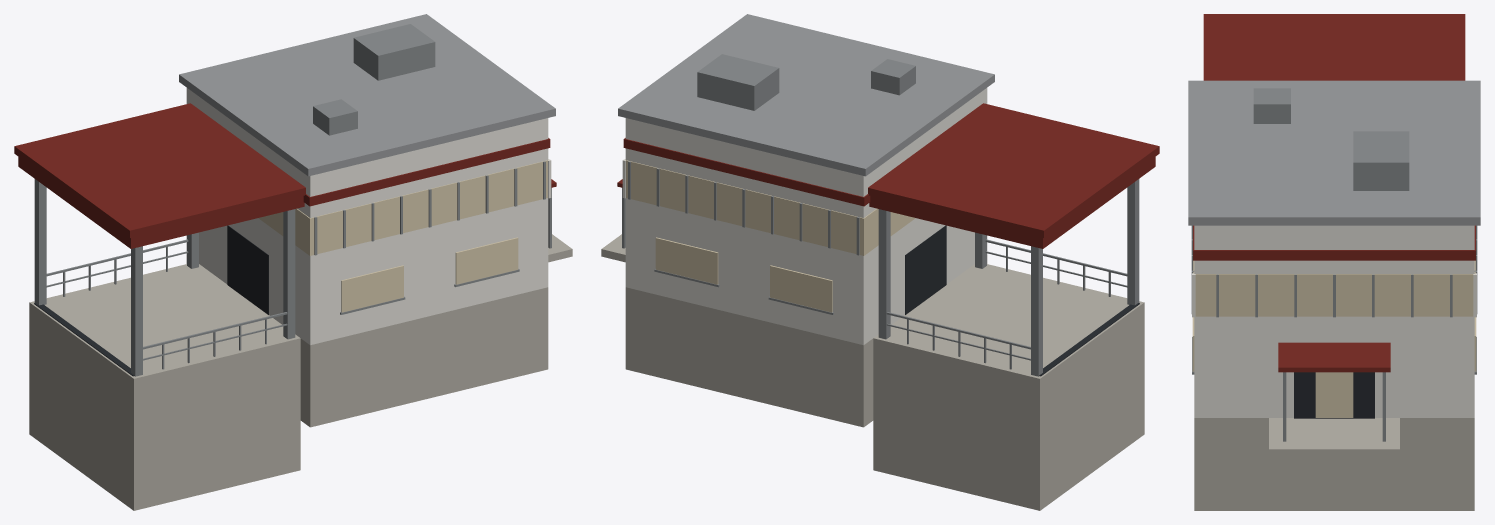
Rendered from ropeway_station.glb.
The picture shows the model from 3 angles, left to right: view 1: azimuth 30°, elevation 25°; view 2: azimuth 150°, elevation 25°; view 3: azimuth 270°, elevation 25°; orthographic projection. The views are drawn at different scales.
Visible parts, largest first — view 1: ropeway_station; view 2: ropeway_station; view 3: ropeway_station.
Boxes of the visible parts, box(x1,y1,x2,y2) form: ropeway_station: box(14, 14, 572, 510); ropeway_station: box(601, 14, 1159, 510); ropeway_station: box(1188, 14, 1480, 510).
Bounding box in the file's own units: 19.8 × 13.5 × 9.4.
